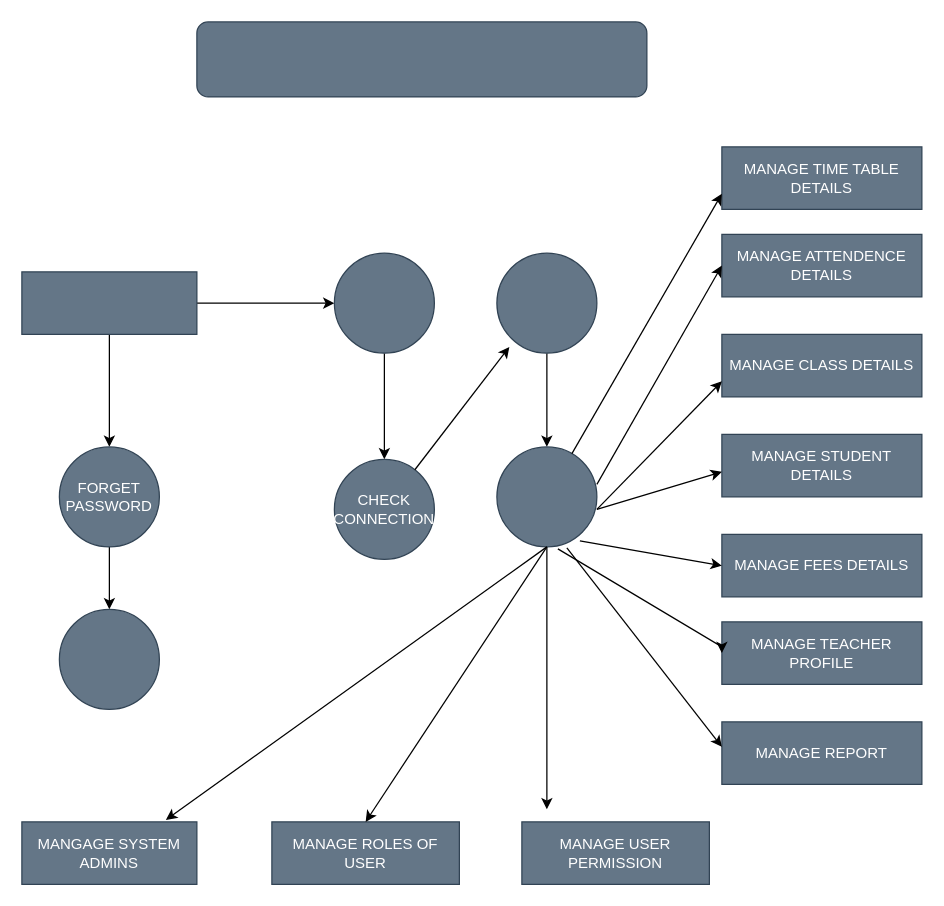
This 944x906 diagram has some shape labels left out. Each missing label, with the centre of its shape:
"ADMIN" belongs at (x=109, y=302).
"CHECK ROLES OF ACCESS" belongs at (x=546, y=302).
"LOGIN TO SYSTEM" belongs at (x=383, y=302).
"MANAGE MODULES" belongs at (x=546, y=496).
"SEND EMAIL TO USER" belongs at (x=108, y=658).
"STUDENT INFORMATION SYSTEM" belongs at (x=421, y=59).
